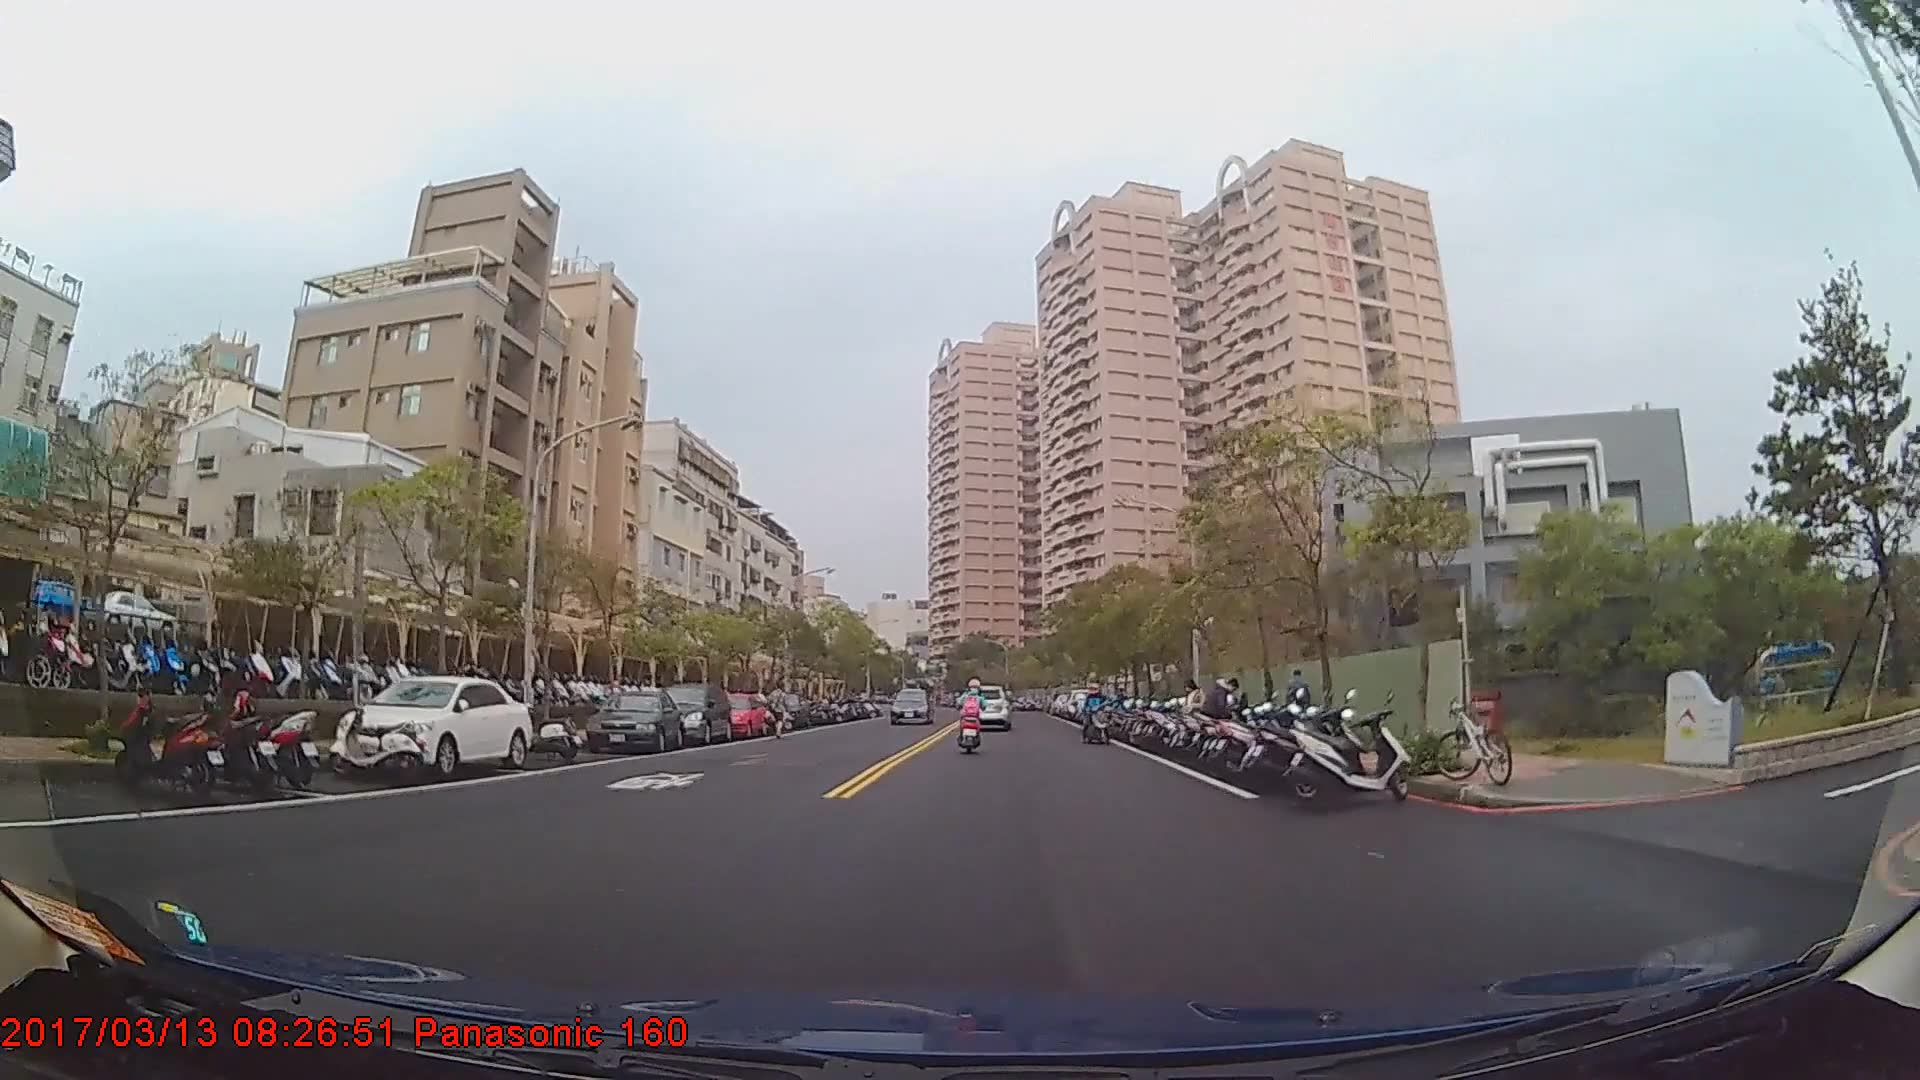pedestrian: (1200, 676, 1240, 763), (1179, 678, 1205, 754), (1282, 666, 1311, 735), (766, 680, 796, 741)
rider: (957, 679, 988, 752), (1080, 684, 1108, 746)
vehicle: (346, 674, 529, 778), (583, 689, 683, 753), (658, 680, 731, 741), (698, 691, 765, 739), (957, 683, 1010, 730), (890, 686, 931, 724)
